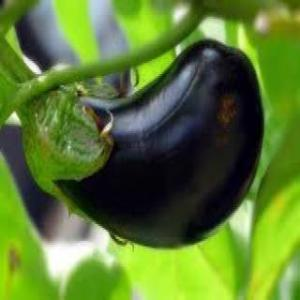eggplant: (35, 38, 262, 248)
